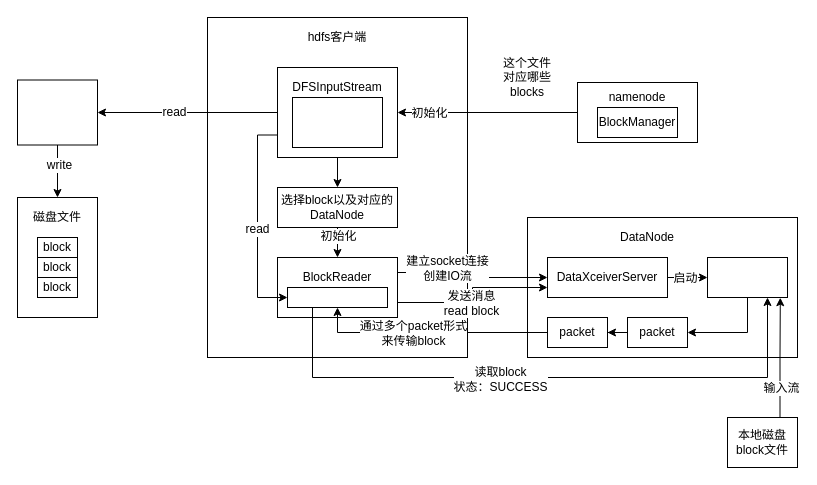
This 817x485 diagram has some shape labels left out. Each missing label, with the centre of its shape:
"BlockSender" goes at [747,277].
"PacketReceiver" goes at [337,297].
"应用系统（如云盘系统）" goes at [57,112].
"文件对应的blocks" goes at [337,122].
